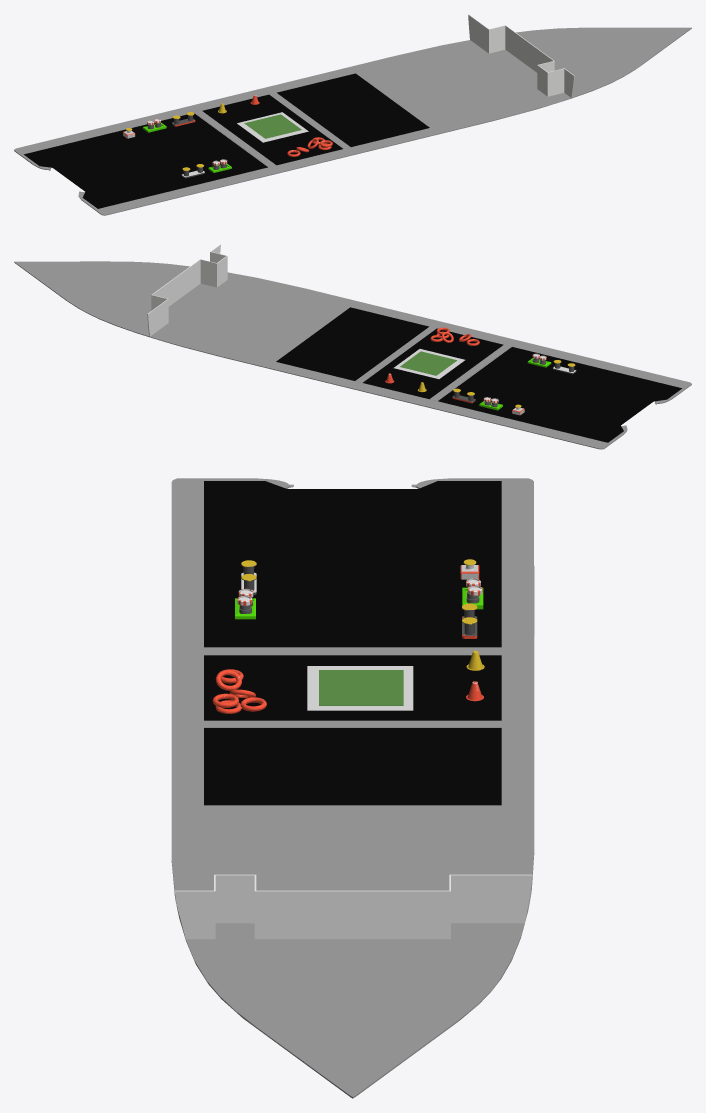
File: mooring_main_deck.dae
The picture shows the model from 3 angles, top to bottom: view 1: azimuth 30°, elevation 25°; view 2: azimuth 150°, elevation 25°; view 3: azimuth 270°, elevation 25°; orthographic projection. The views are drawn at different scales.
Visible parts, largest first — view 1: node8.004, node1.004, node2.004, node0.005, Cube.003, node4.001, node6.004, Plane; view 2: node8.004, node1.004, node2.004, node0.005, Cube.003, node6.004, node4.001, Plane; view 3: node8.004, node1.004, node2.004, node0.005, Cube.003, node6.004, node4.001, Plane.
Boxes of the visible parts, x1,y1,x2,y2 form: node8.004: (14, 27, 691, 215); node1.004: (24, 113, 267, 208); node2.004: (202, 73, 429, 165); node0.005: (468, 14, 574, 97); Cube.003: (244, 114, 301, 138); node4.001: (195, 111, 275, 166); node6.004: (269, 92, 350, 148); Plane: (237, 112, 308, 142); node8.004: (14, 261, 691, 449); node1.004: (438, 347, 681, 442); node2.004: (276, 307, 503, 399); node0.005: (147, 244, 227, 336); Cube.003: (400, 351, 456, 375); node6.004: (355, 326, 436, 382); node4.001: (430, 345, 510, 400); Plane: (393, 349, 464, 378); node8.004: (171, 478, 534, 1098); node1.004: (204, 481, 501, 647); node2.004: (204, 655, 501, 805); node0.005: (174, 874, 532, 939); Cube.003: (319, 670, 403, 705); node6.004: (204, 720, 501, 727); node4.001: (204, 648, 501, 655); Plane: (307, 666, 413, 710).
Bounding box in the file's own units: 1.38 × 0.3424 × 0.0519.
